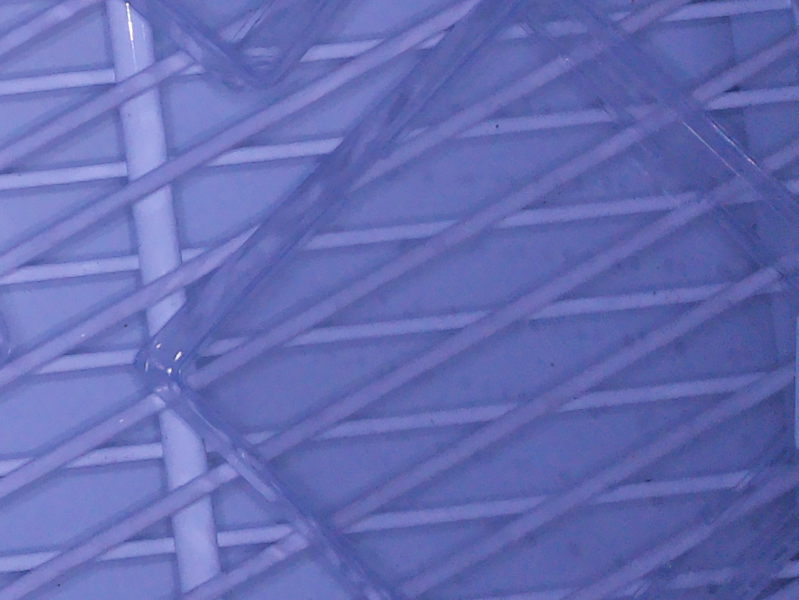plate: (131, 1, 799, 600), (122, 1, 346, 98)
